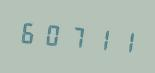one: (87, 20, 109, 55), (110, 22, 132, 57)
seven: (64, 18, 86, 53)
six: (18, 14, 40, 49)
zero: (41, 16, 63, 51)
